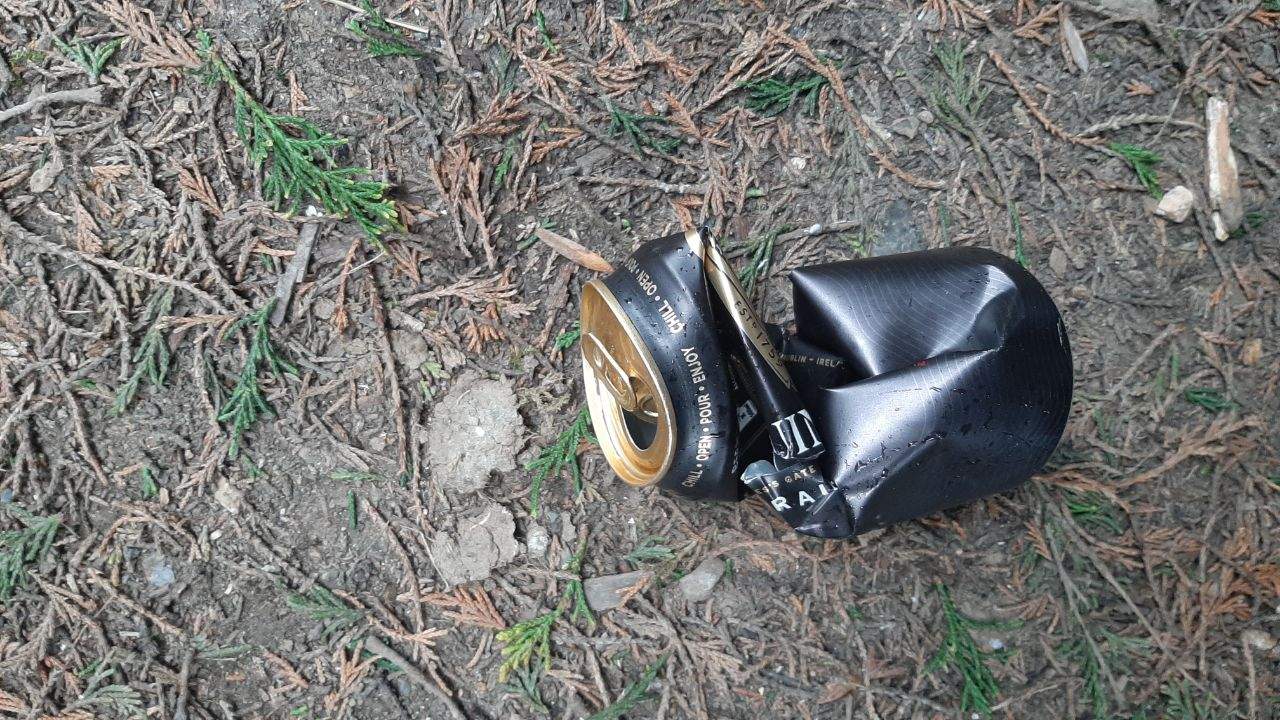Can: (578, 227, 1072, 541)
